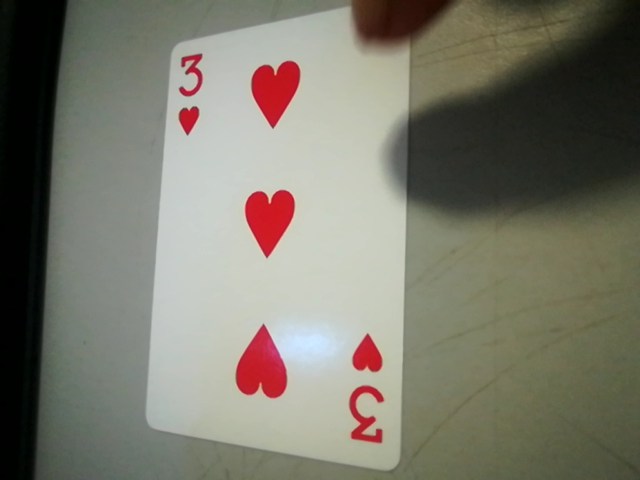hx 3: (340, 328, 397, 457)
